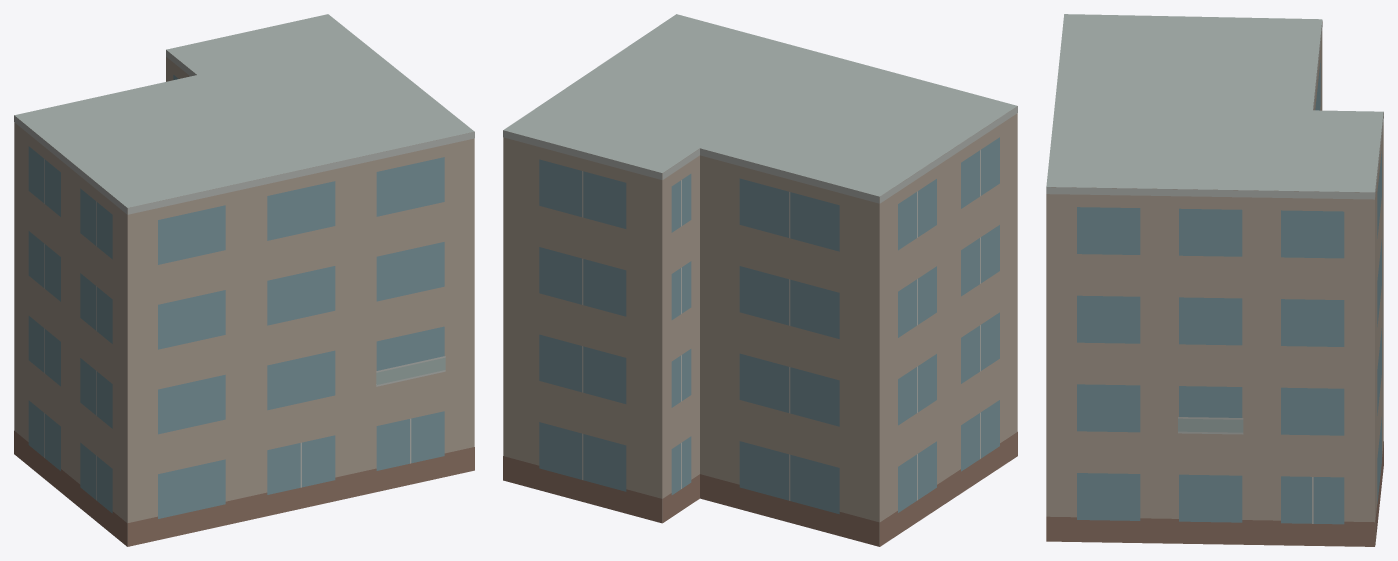
Rendered from survey-upis-32980482.glb.
The picture shows the model from 3 angles, left to right: view 1: azimuth 30°, elevation 25°; view 2: azimuth 150°, elevation 25°; view 3: azimuth 270°, elevation 25°; orthographic projection. The views are drawn at different scales.
Visible parts, largest first — view 1: survey-upis-32980482.tmp; view 2: survey-upis-32980482.tmp; view 3: survey-upis-32980482.tmp.
Part boxes in pixels (x1=…): survey-upis-32980482.tmp: x1=14, y1=14, x2=474, y2=546; survey-upis-32980482.tmp: x1=503, y1=14, x2=1017, y2=546; survey-upis-32980482.tmp: x1=1046, y1=14, x2=1383, y2=546.
Bounding box in the file's own units: 13.08 × 12.11 × 10.45.
